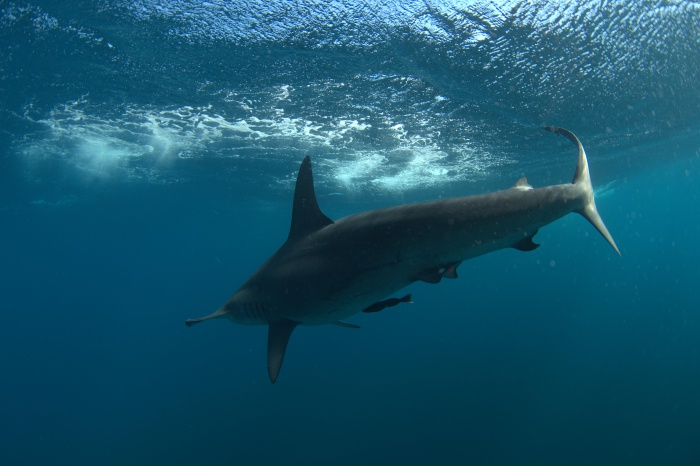Hammer: (106, 180, 471, 374)
